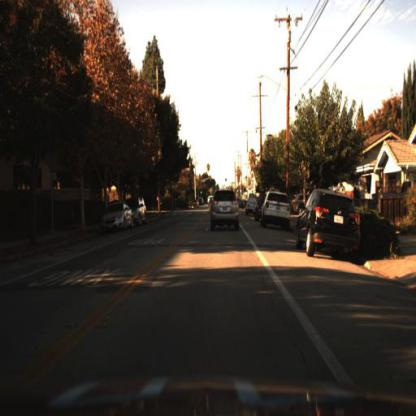car: (296, 186, 361, 259), (258, 188, 295, 232), (209, 187, 240, 238), (258, 189, 292, 231), (98, 201, 136, 235), (126, 193, 149, 229), (104, 201, 133, 229), (130, 195, 151, 229), (289, 188, 307, 216), (254, 192, 269, 224), (246, 193, 259, 217)
